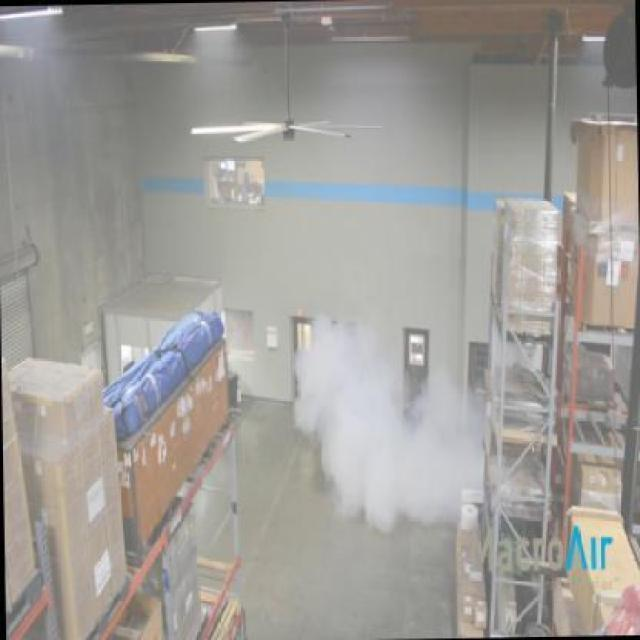fire: (286, 311, 456, 537)
